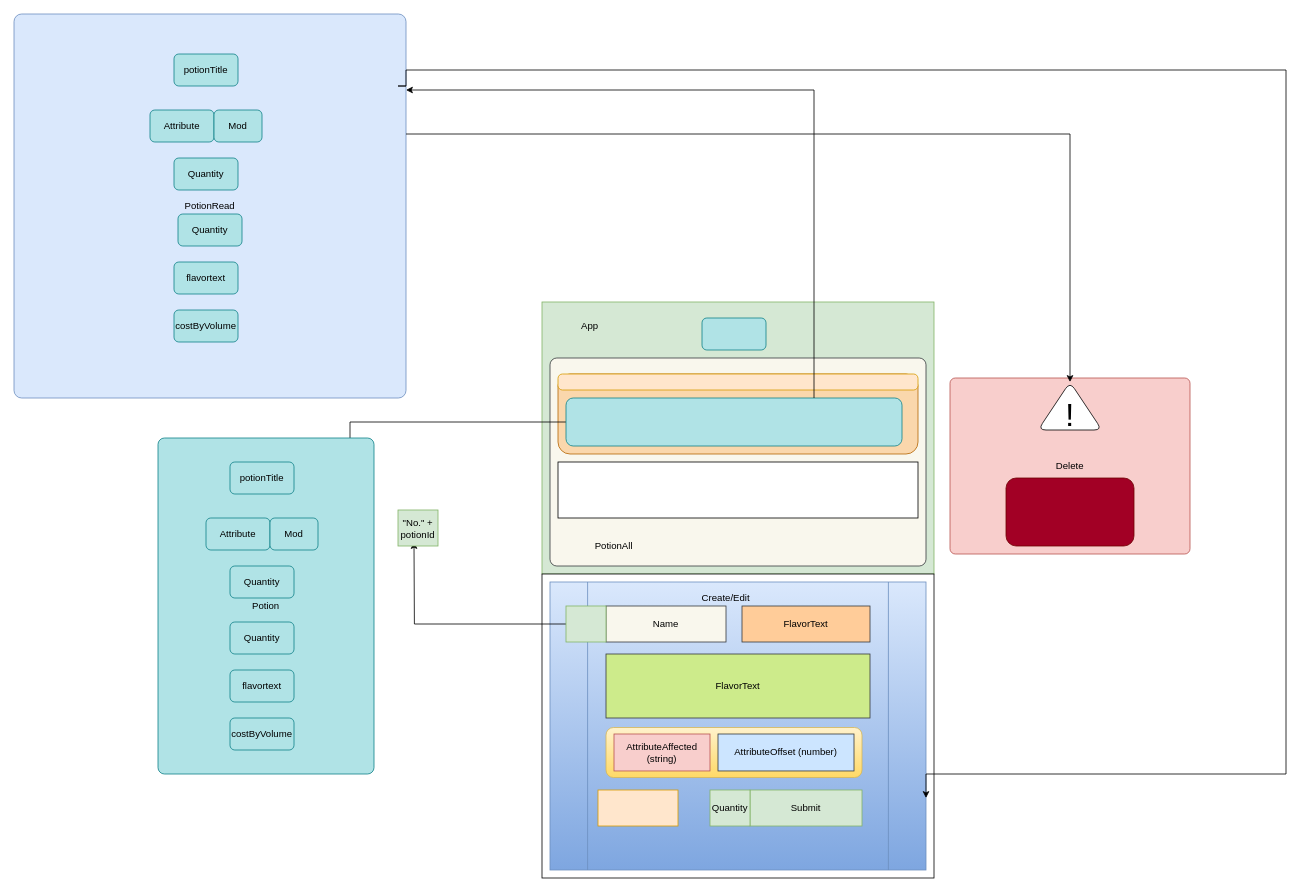
This 1306x892 diagram has some shape labels left out. The shapes that lost their labels are listed below. From the top down, each one's box as (x1, y1, x2, y2) in pixels, then its label:
(701, 317, 766, 350): Title
(557, 373, 918, 390): Label
(565, 397, 902, 446): PotionBasics
(1005, 477, 1134, 546): DeleteConfirm
(565, 605, 606, 642): Identifier
(597, 789, 678, 826): Return
